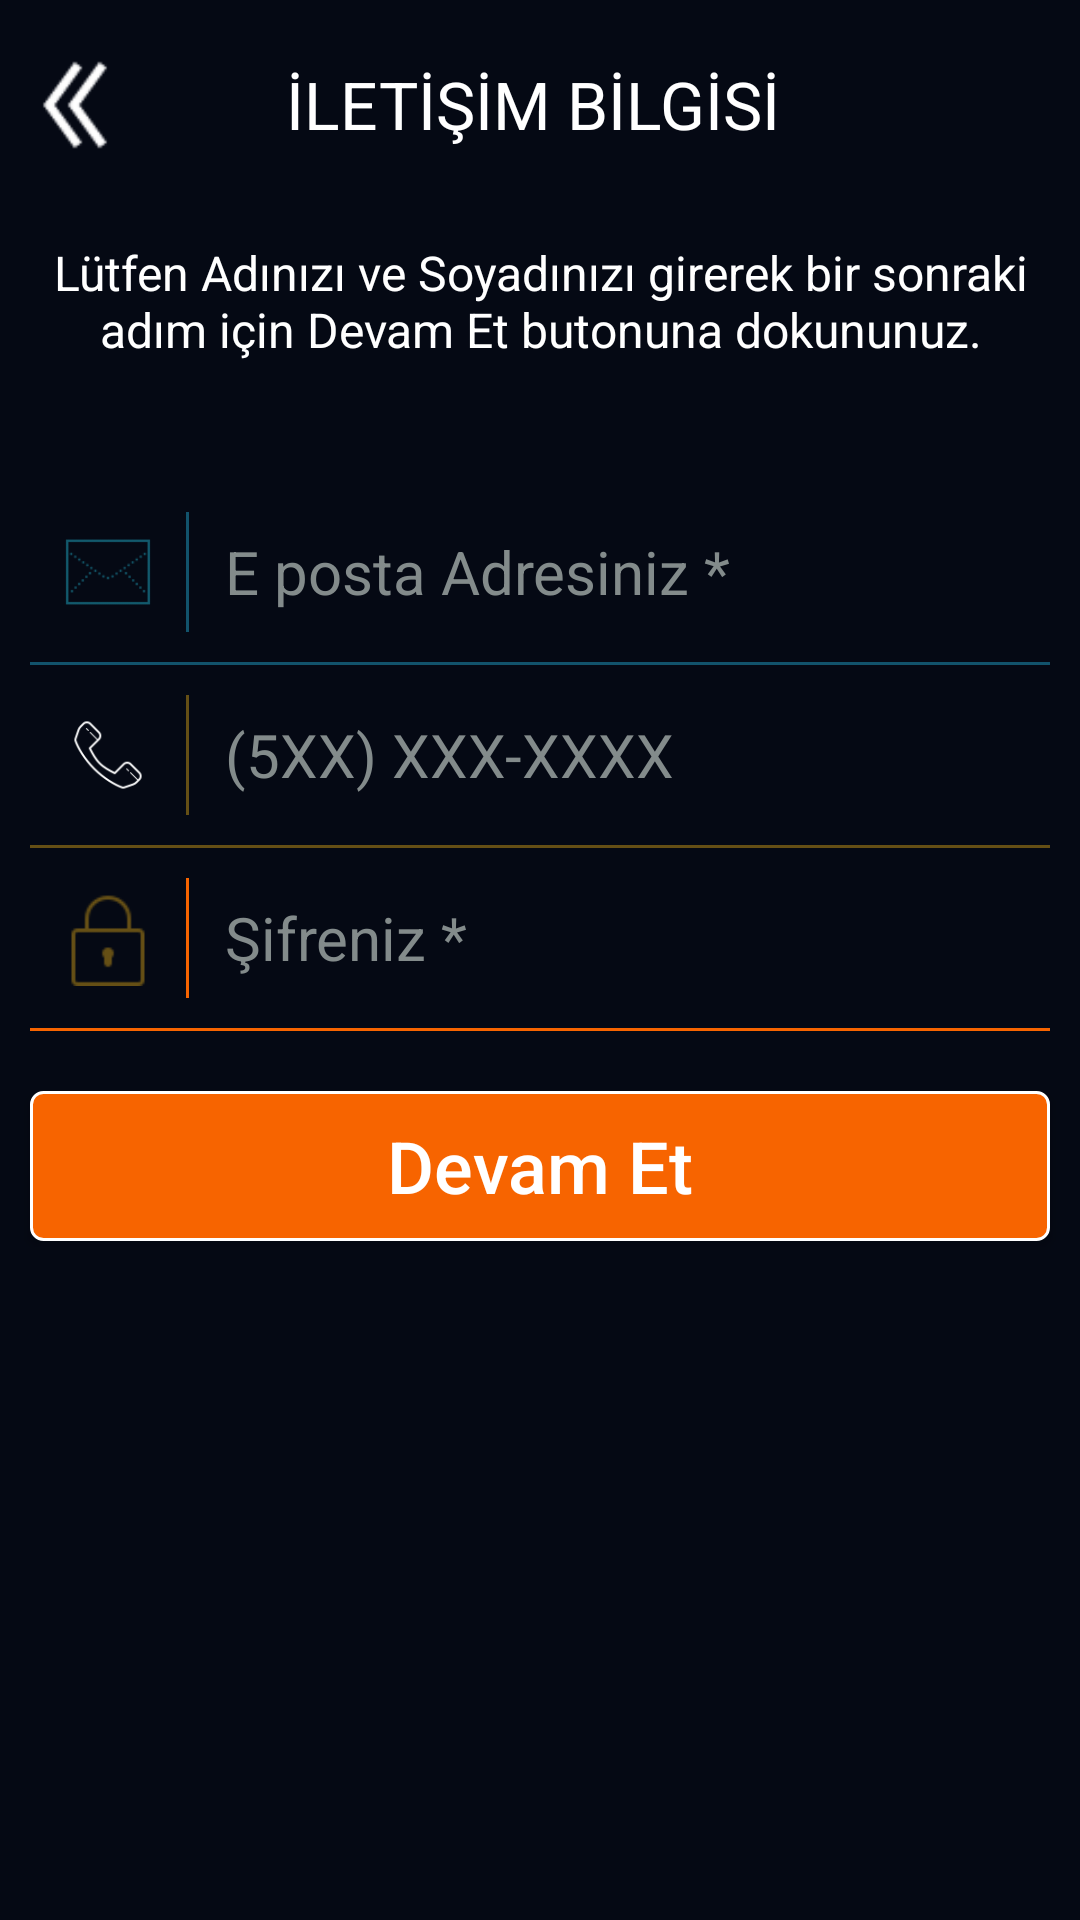

Icons on this 1080*1920 Android screen, each with the point to tap as (x=x, y=y):
back double: (x=75, y=105)
mail icom: (x=108, y=572)
password: (x=108, y=940)
phone: (x=108, y=755)
